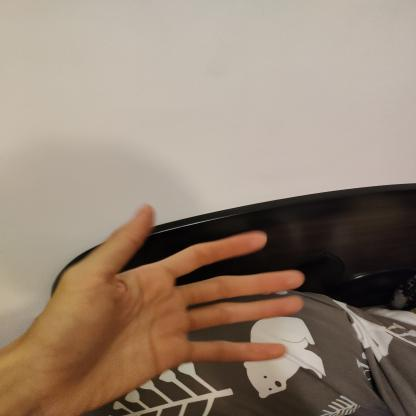bare_hand: (2, 191, 310, 416)
